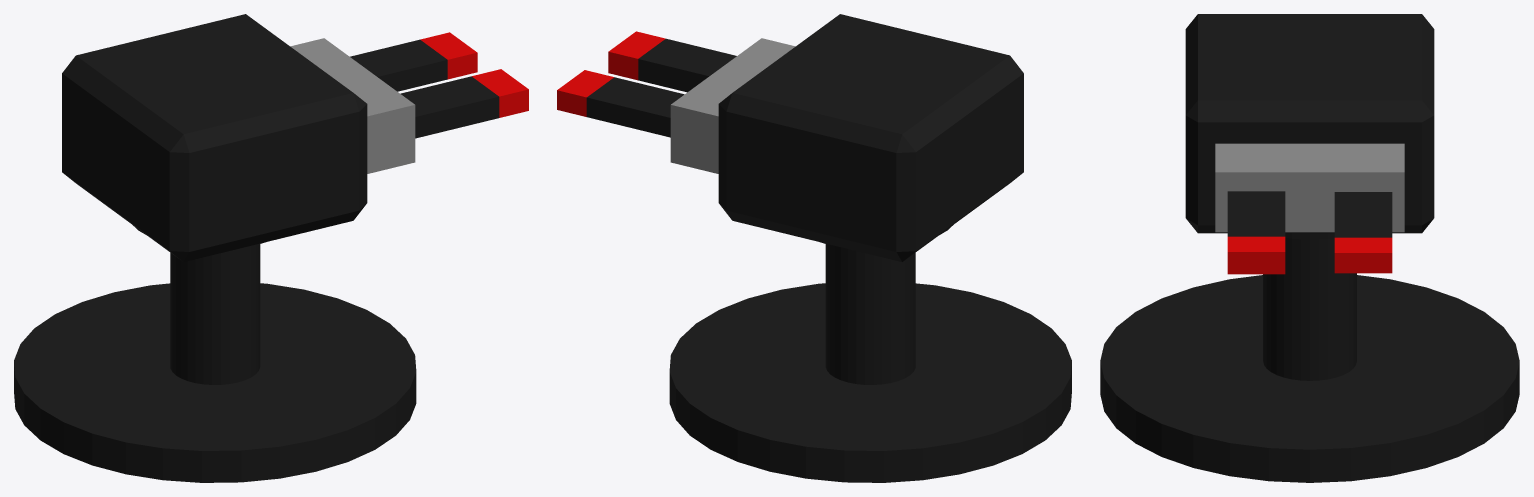
Rendered from turret.fbx.
3 views of the same model, side by side, from view 1: azimuth 30°, elevation 25°; view 2: azimuth 150°, elevation 25°; view 3: azimuth 270°, elevation 25° (orthographic). The views are drawn at different scales.
Visible parts, largest first — view 1: Turret; view 2: Turret; view 3: Turret.
Boxes of the visible parts, left/top/right/bottom form: Turret: left=14, top=14, right=528, bottom=482; Turret: left=557, top=14, right=1071, bottom=482; Turret: left=1100, top=14, right=1519, bottom=482.
Size of the model in its own units: 656 by 452 by 510.
